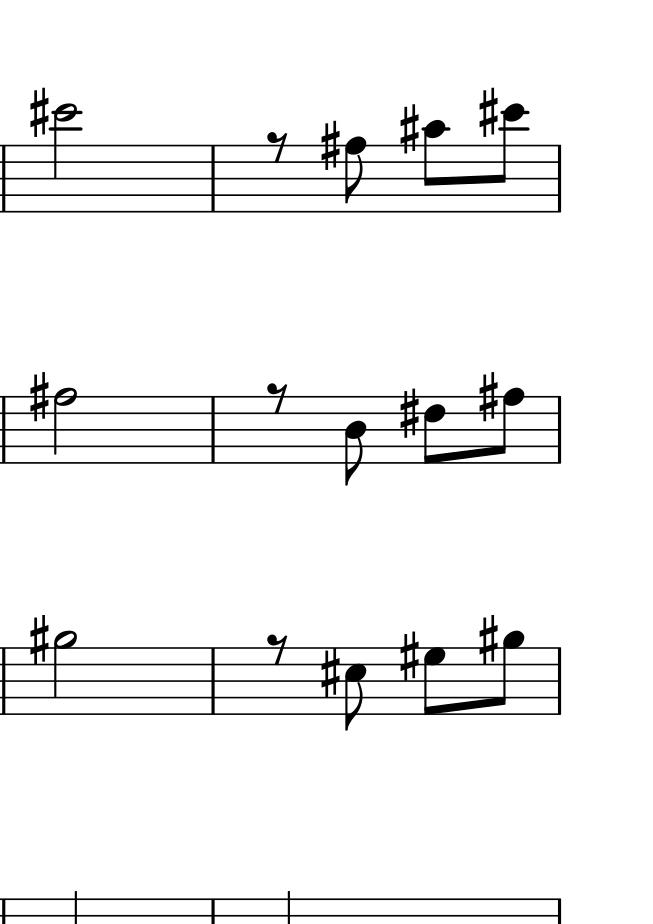2_12: (50, 101, 83, 215)
2_8: (51, 385, 76, 467)
2_9: (51, 630, 77, 716)
8_10: (422, 119, 447, 215)
8_12: (490, 96, 527, 216)
8_4: (343, 395, 369, 487)
8_5: (343, 646, 369, 731)
8_6: (423, 394, 447, 467)
8_7: (421, 646, 449, 717)
8_8: (494, 386, 524, 466), (342, 135, 368, 214)
8_9: (492, 630, 525, 718)
Rests8: (266, 131, 289, 164), (266, 633, 289, 666), (267, 382, 289, 414)
Sharp: (398, 103, 420, 157), (319, 646, 341, 700), (398, 387, 420, 440), (398, 630, 420, 683), (29, 85, 50, 140), (27, 614, 48, 669), (320, 119, 341, 173), (28, 370, 49, 424), (477, 613, 498, 666), (478, 371, 499, 423), (478, 86, 498, 139)
Single_barline: (551, 145, 567, 212), (205, 397, 221, 461), (205, 145, 220, 211), (552, 648, 567, 714), (205, 649, 220, 713), (552, 396, 566, 463), (1, 646, 12, 717), (1, 147, 12, 212), (1, 399, 11, 462)
